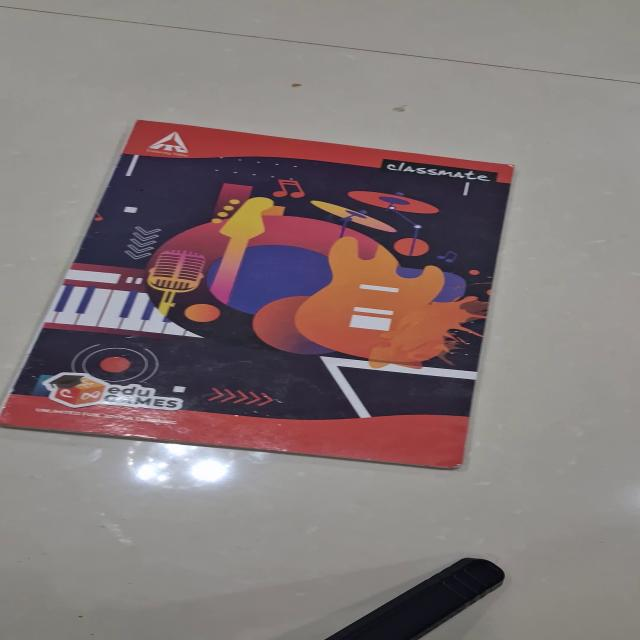paper: (1, 119, 515, 470)
